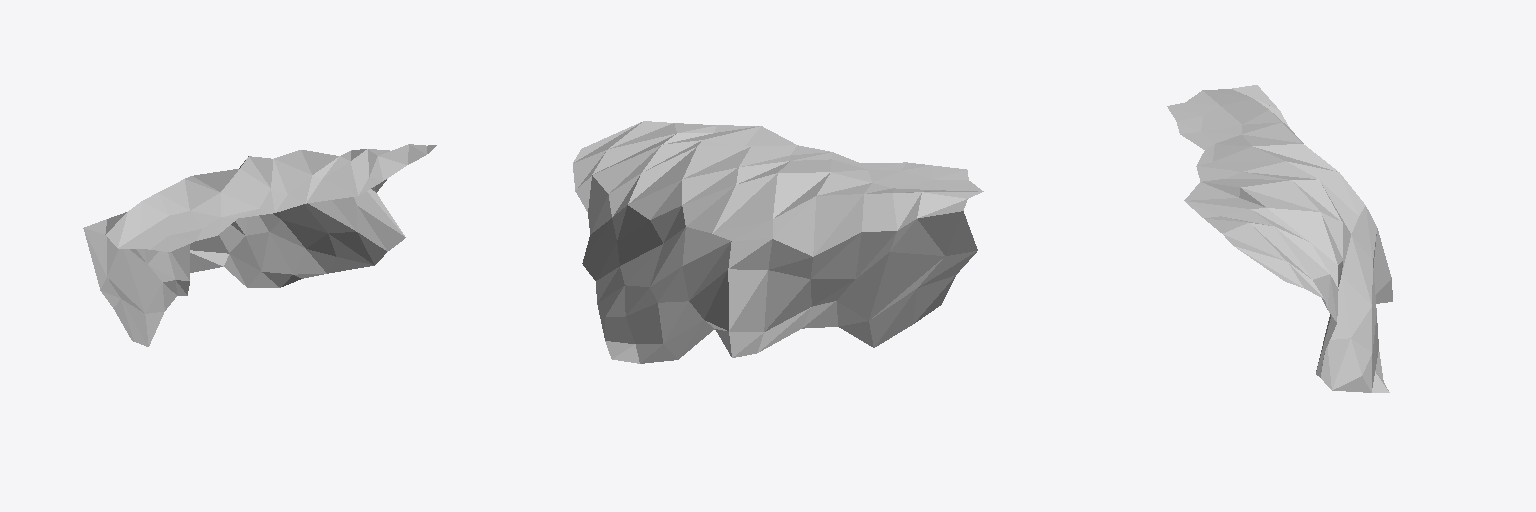
Rendered from MSH_env_grass-hanging-f.obj.
The picture shows the model from 3 angles: view 1: azimuth 30°, elevation 25°; view 2: azimuth 150°, elevation 25°; view 3: azimuth 270°, elevation 25°; orthographic projection.
Parts seen in each view (by area): view 1: MSH_env_grass_hanging_f group4; view 2: MSH_env_grass_hanging_f group4; view 3: MSH_env_grass_hanging_f group4.
Boxes of the visible parts, <box> form: MSH_env_grass_hanging_f group4: <box>83,144,436,346</box>; MSH_env_grass_hanging_f group4: <box>573,121,983,363</box>; MSH_env_grass_hanging_f group4: <box>1167,85,1392,392</box>.
Size of the model in its own units: 41.11 by 18.9 by 21.9.